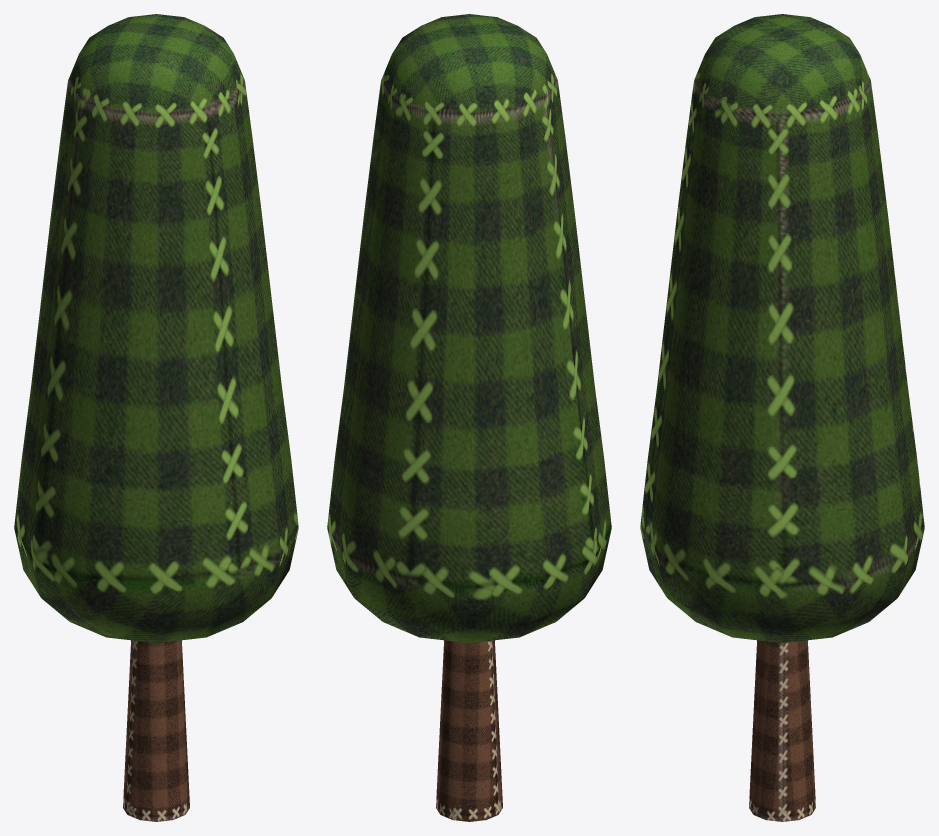
The model's file is lpb_cs_tree28.fbx.
3 renders of one model, left to right at view 1: azimuth 30°, elevation 25°; view 2: azimuth 150°, elevation 25°; view 3: azimuth 270°, elevation 25°, orthographic.
Parts seen in each view (by area): view 1: lpb_cs_tree28; view 2: lpb_cs_tree28; view 3: lpb_cs_tree28.
Part boxes in pixels (box(x1,y1,x2,y2)): lpb_cs_tree28: box(14, 14, 298, 821); lpb_cs_tree28: box(327, 14, 611, 821); lpb_cs_tree28: box(640, 14, 924, 821).
Size of the model in its own units: 66.04 by 199 by 66.04.
